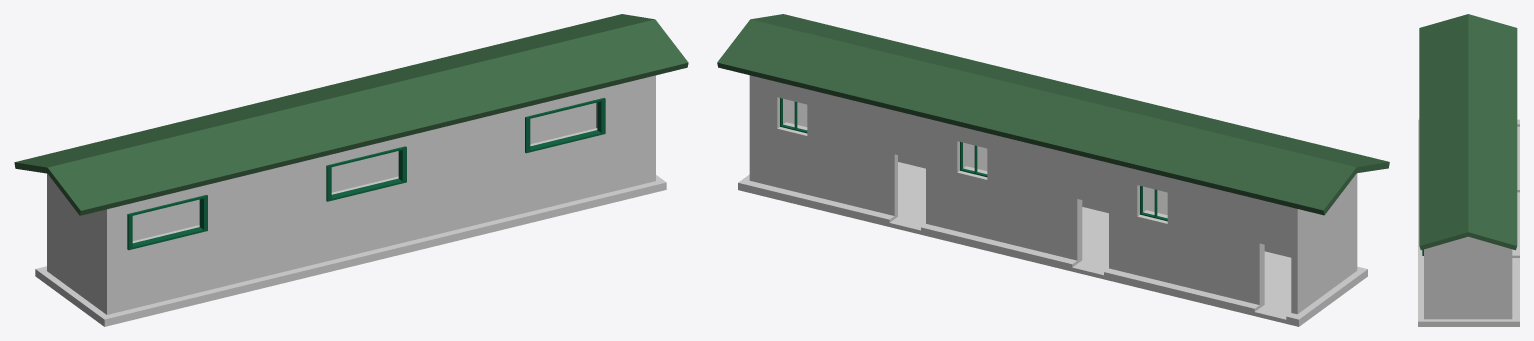
Rendered from school.fbx.
3 renders of one model, left to right at view 1: azimuth 30°, elevation 25°; view 2: azimuth 150°, elevation 25°; view 3: azimuth 270°, elevation 25°, orthographic. The views are drawn at different scales.
Visible parts, largest first — view 1: School, School.001, Cube.003; view 2: School, School.001, Cube.002; view 3: School.001, School.
Boxes of the visible parts, <box> form: School: <box>35,75,666,326</box>; School.001: <box>14,14,688,215</box>; Cube.003: <box>127,97,605,250</box>; School: <box>738,75,1367,326</box>; School.001: <box>717,14,1389,215</box>; Cube.002: <box>780,98,1167,221</box>; School.001: <box>1419,14,1517,250</box>; School: <box>1418,119,1519,326</box>.
Bounding box in the file's own units: 11653 × 2565 × 2296.
